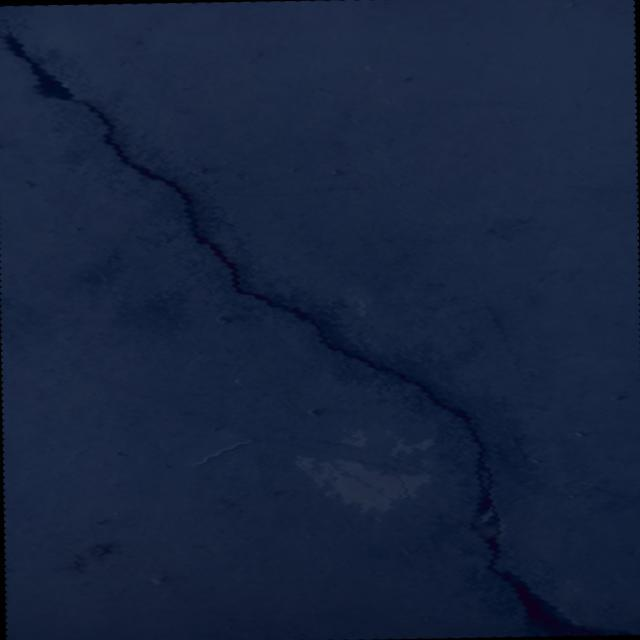crack: (0, 6, 627, 640)
